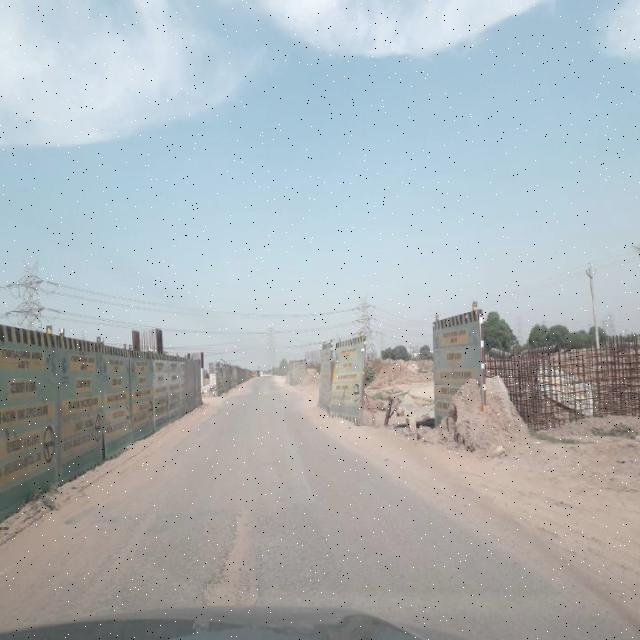D40: (194, 501, 264, 611)
